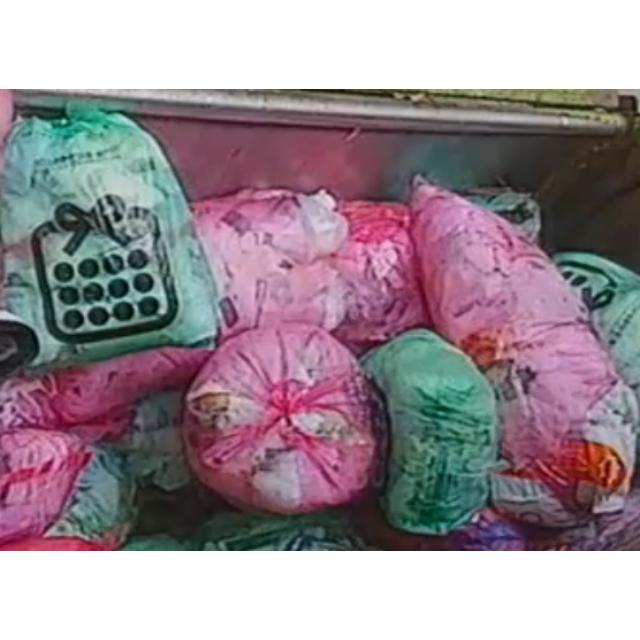general_trashbag: (0, 112, 215, 371), (360, 329, 496, 535), (554, 254, 640, 405)
other_trashbag: (411, 183, 635, 512), (194, 190, 429, 350), (186, 324, 384, 512)
